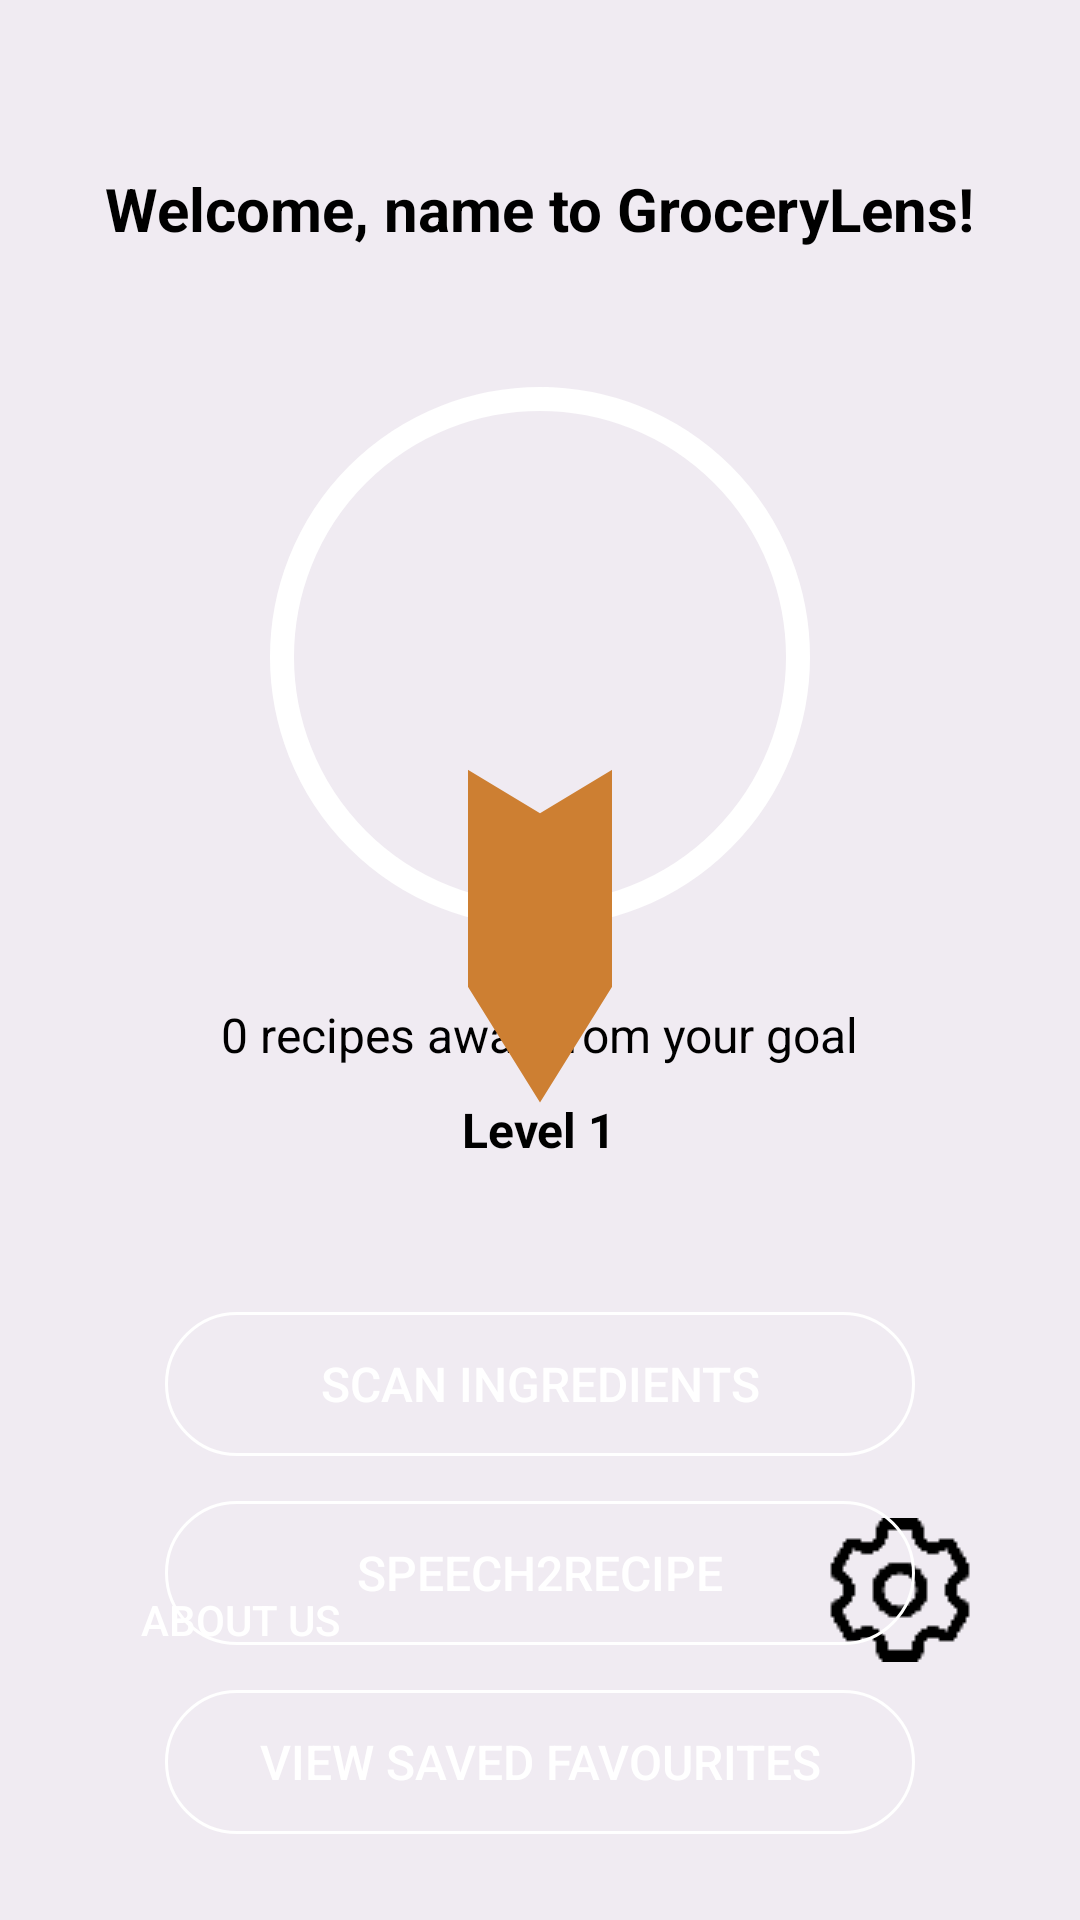

Locate icon controls on the screen. Image size 1080*1920, boxes as (x1, y1, x2, y2).
Settings Icon: (830, 1518, 970, 1662)
